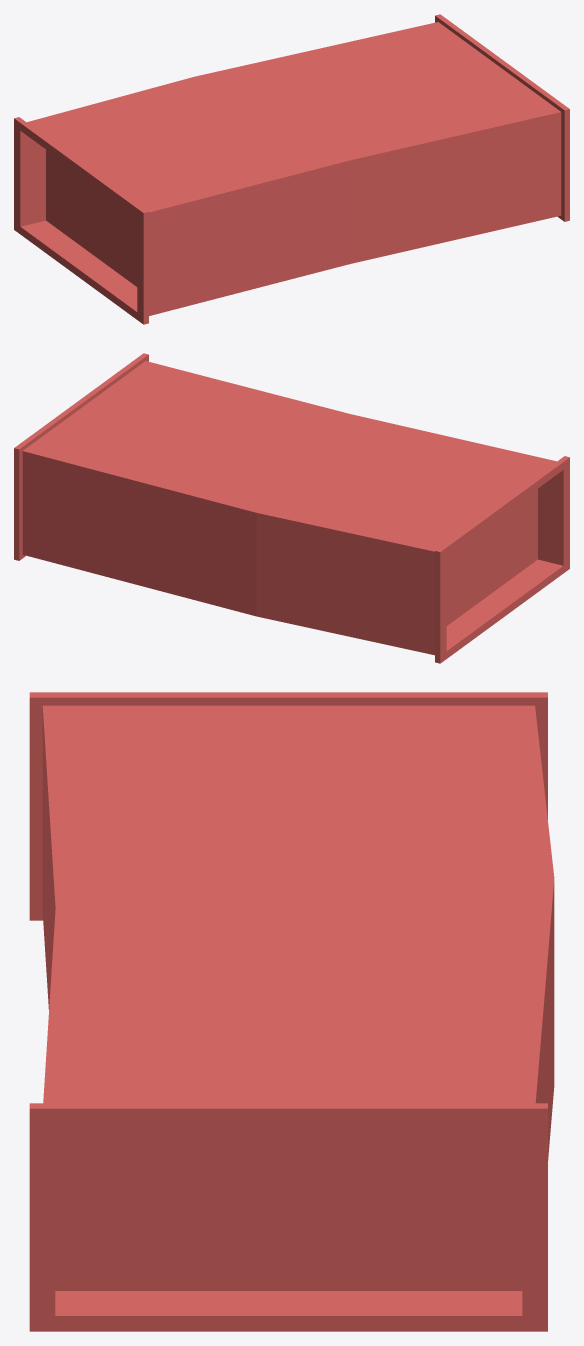
The model's file is SM_PROP_VENT_02.fbx.
3 renders of one model, top to bottom at view 1: azimuth 30°, elevation 25°; view 2: azimuth 150°, elevation 25°; view 3: azimuth 270°, elevation 25°, orthographic. The views are drawn at different scales.
Visible parts, largest first — view 1: SM_PROP_VENT_02; view 2: SM_PROP_VENT_02; view 3: SM_PROP_VENT_02.
Part boxes in pixels (x1,y1,x2,y2): SM_PROP_VENT_02: [14, 14, 569, 324]; SM_PROP_VENT_02: [14, 353, 569, 663]; SM_PROP_VENT_02: [29, 692, 554, 1331].
Bounding box in the file's own units: 2 × 0.5 × 1.07.
